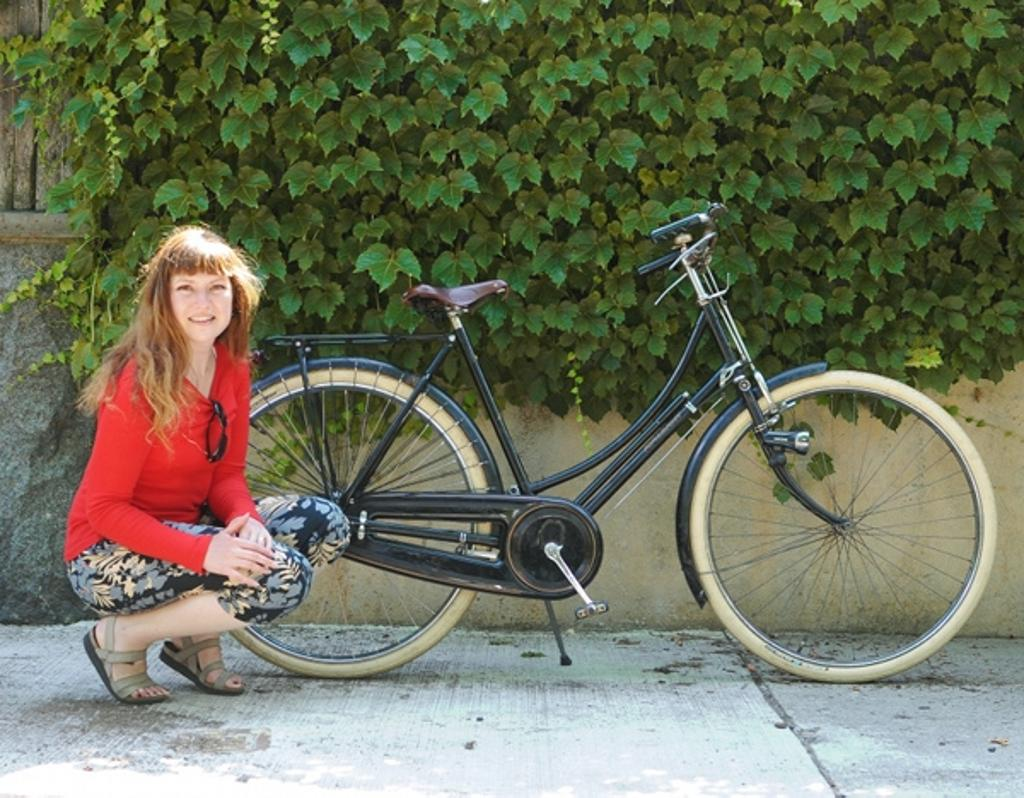face: (170, 240, 232, 344)
